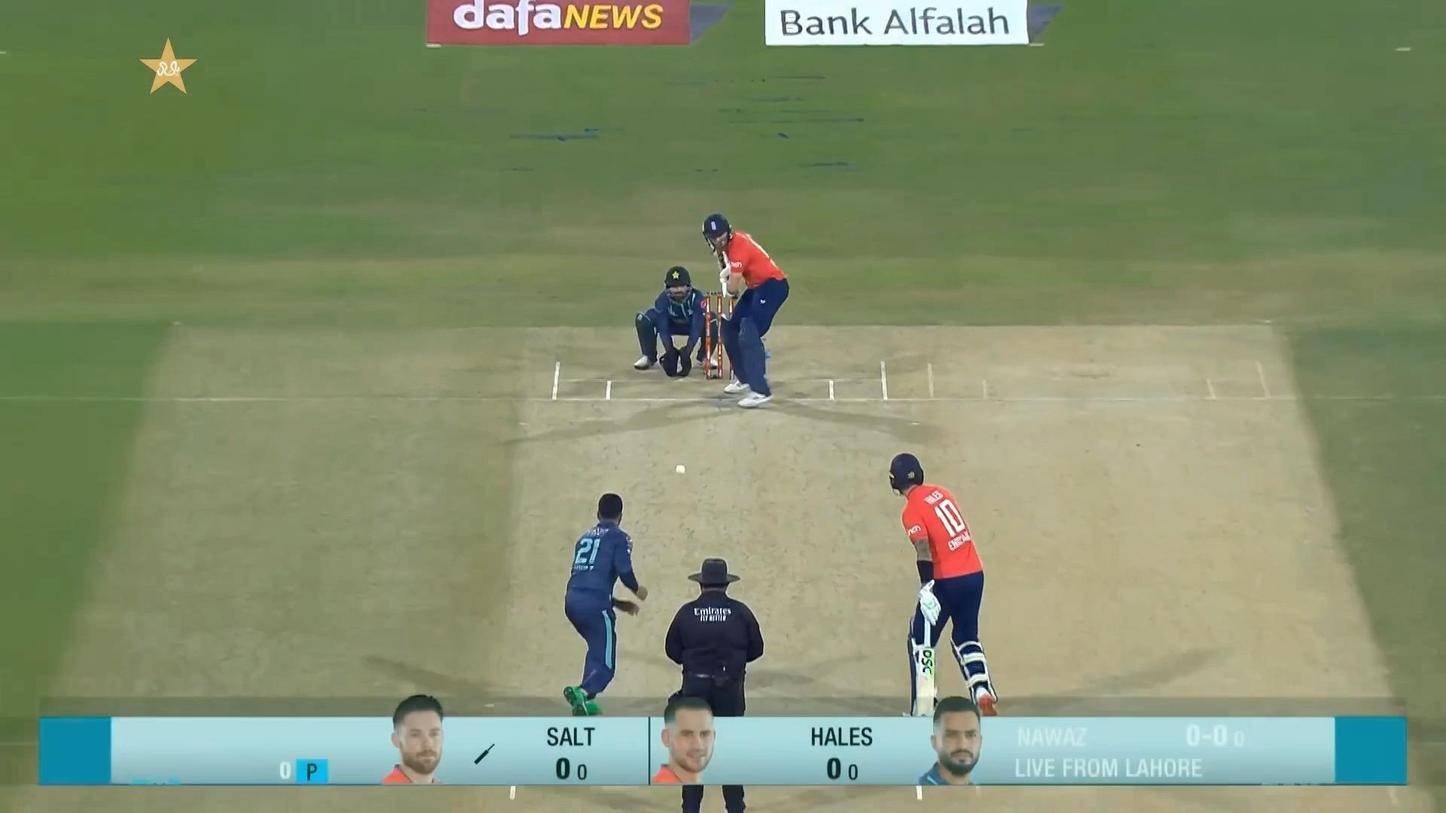BM 1: (701, 211, 790, 409)
BO: (562, 490, 652, 716)
